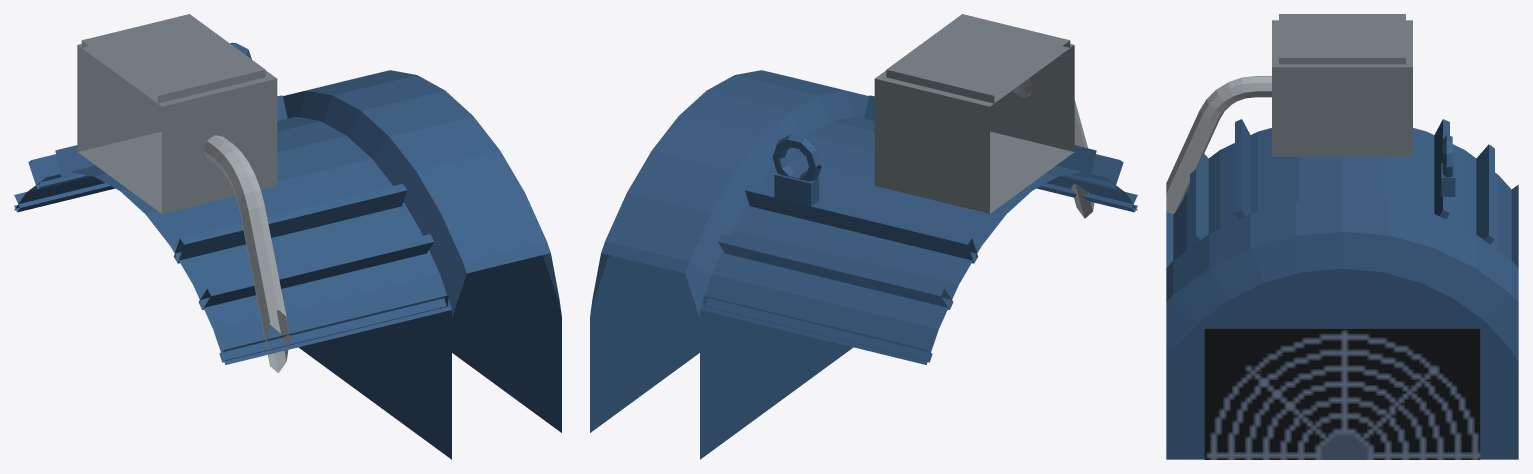
Rendered from cell_34.obj.
The picture shows the model from 3 angles, left to right: view 1: azimuth 30°, elevation 25°; view 2: azimuth 150°, elevation 25°; view 3: azimuth 270°, elevation 25°; orthographic projection. The views are drawn at different scales.
Bounding box in the file's own units: 0.922 × 0.966 × 1.
